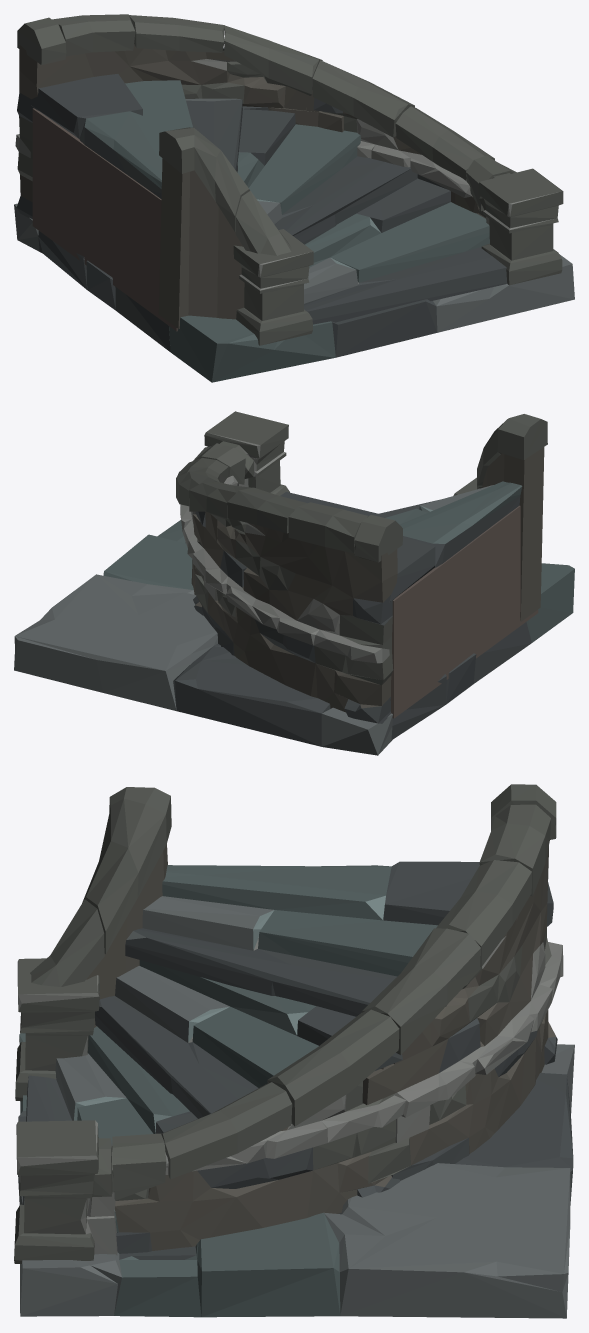
The model's file is MDungeons_Steps_Curved_90_Alt.FBX.
The picture shows the model from 3 angles, top to bottom: view 1: azimuth 30°, elevation 25°; view 2: azimuth 150°, elevation 25°; view 3: azimuth 270°, elevation 25°; orthographic projection. The views are drawn at different scales.
Visible parts, largest first — view 1: MDungeons_Steps_Curved_90_Alt_LOD0; view 2: MDungeons_Steps_Curved_90_Alt_LOD0; view 3: MDungeons_Steps_Curved_90_Alt_LOD0.
Boxes of the visible parts, <box> form: MDungeons_Steps_Curved_90_Alt_LOD0: <box>14,14,574,382</box>; MDungeons_Steps_Curved_90_Alt_LOD0: <box>14,411,574,755</box>; MDungeons_Steps_Curved_90_Alt_LOD0: <box>14,784,574,1318</box>.
Size of what is drawn, in the model's own units: 6.1 by 3.56 by 6.06.
